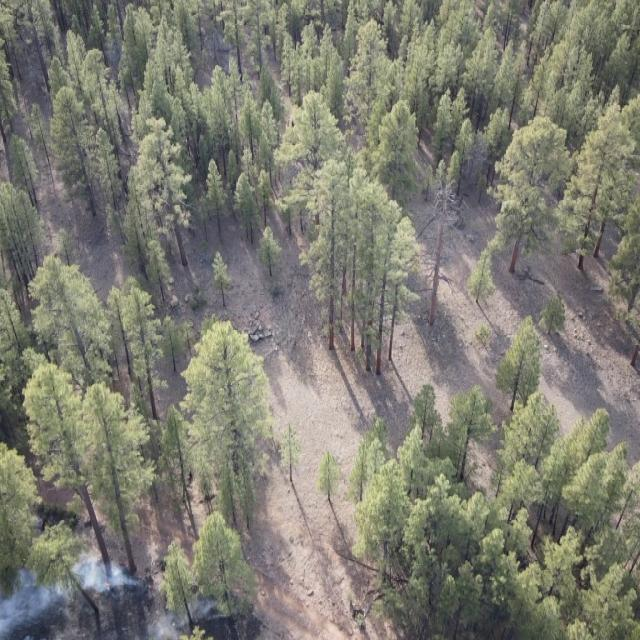fire: (102, 577, 114, 593), (119, 558, 131, 572)
smoke: (0, 555, 142, 640), (146, 595, 232, 640)
